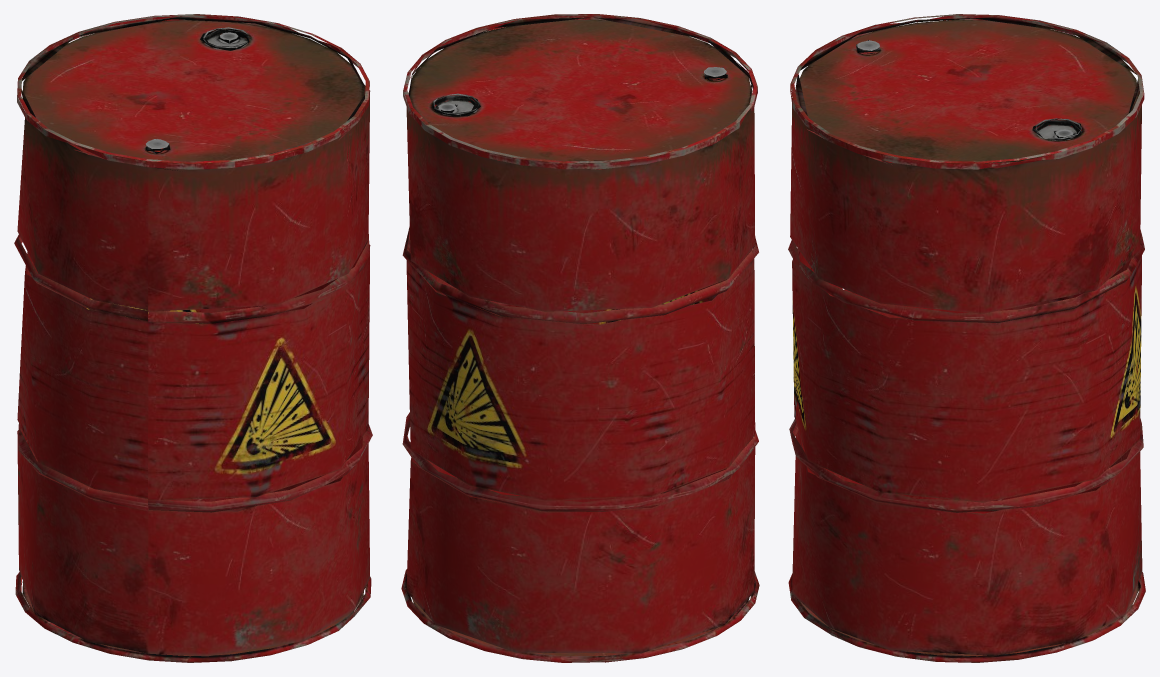
Rendered from barrel.glb.
The picture shows the model from 3 angles, left to right: view 1: azimuth 30°, elevation 25°; view 2: azimuth 150°, elevation 25°; view 3: azimuth 270°, elevation 25°; orthographic projection.
Parts seen in each view (by area): view 1: Barrel_01; view 2: Barrel_01; view 3: Barrel_01.
Boxes of the visible parts, x1,y1,x2,y2 form: Barrel_01: (14,14,372,662); Barrel_01: (401,14,759,662); Barrel_01: (788,14,1145,662).
Size of the model in its own units: 0.5678 by 0.8794 by 0.567.
Materials: 1 (1 with a texture image).
